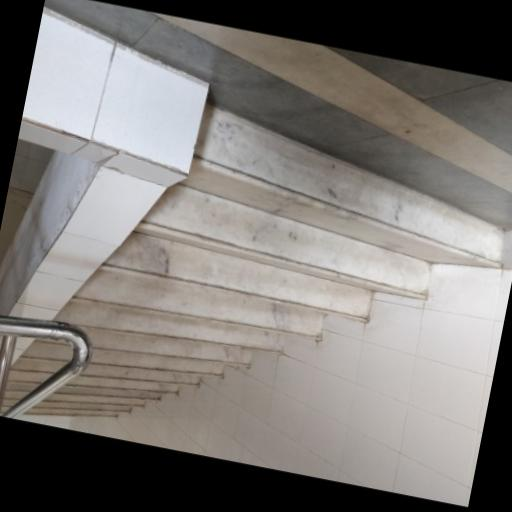stairs: (30, 105, 502, 415)
